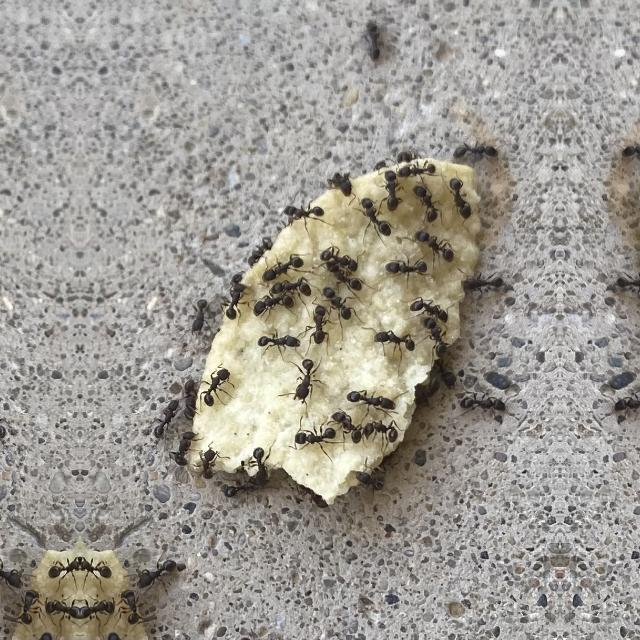Tetramorium: (411, 221, 459, 263), (450, 129, 500, 167), (457, 384, 515, 416), (144, 394, 184, 440), (215, 468, 258, 510), (344, 380, 394, 416), (320, 253, 362, 295), (360, 406, 402, 448), (165, 427, 203, 473), (284, 357, 320, 405), (356, 14, 390, 64), (298, 296, 332, 346), (371, 322, 415, 360), (444, 170, 472, 226), (407, 176, 439, 224), (294, 418, 336, 454), (254, 327, 298, 361), (134, 556, 178, 590), (318, 279, 357, 317), (456, 263, 502, 295), (204, 363, 236, 409), (422, 352, 458, 392), (175, 369, 199, 426), (42, 544, 80, 580), (79, 584, 113, 624), (45, 584, 79, 624), (184, 290, 212, 338), (78, 544, 115, 580), (419, 313, 446, 362), (332, 404, 362, 448), (222, 276, 252, 320), (276, 198, 322, 226), (257, 253, 305, 279), (602, 384, 640, 416), (384, 251, 424, 281), (378, 167, 404, 213), (191, 445, 223, 481), (360, 187, 386, 230), (412, 293, 451, 321), (318, 246, 362, 270), (250, 290, 294, 314), (409, 376, 437, 412), (117, 582, 141, 624), (17, 582, 41, 624), (322, 168, 352, 200), (268, 272, 310, 294), (0, 554, 24, 590), (618, 129, 640, 167), (249, 448, 271, 484), (242, 234, 270, 262), (616, 263, 640, 295), (402, 162, 438, 182), (0, 394, 14, 440)
